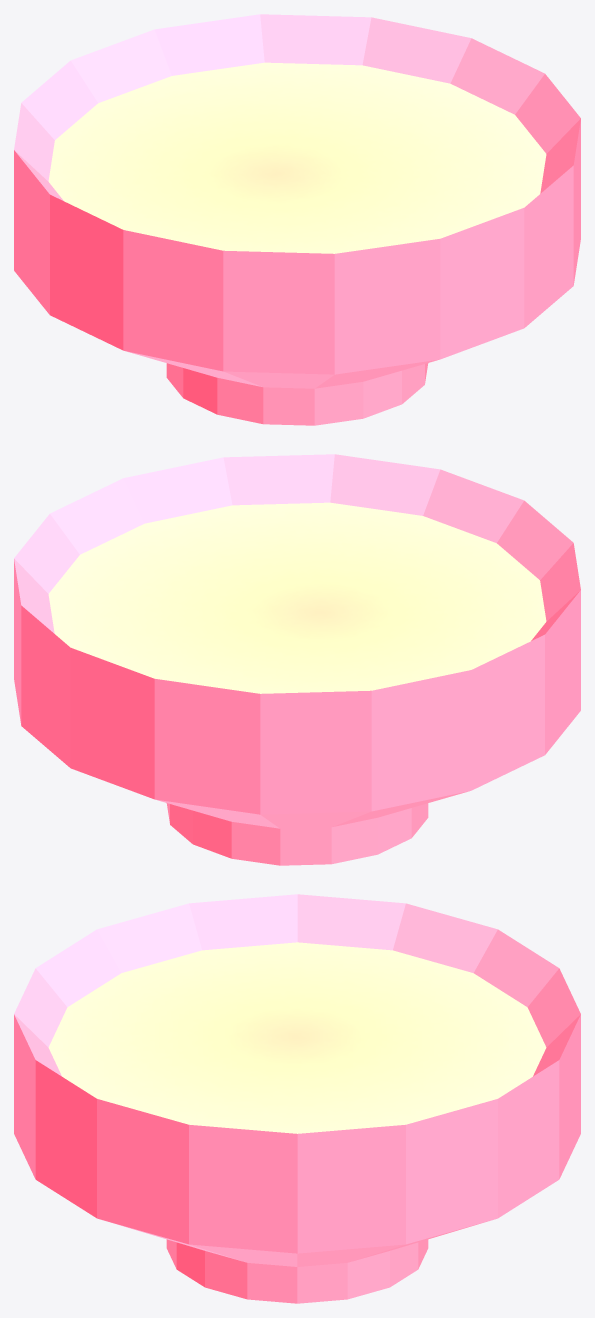
File: bowl.glb
3 views of the same model, one above another, from view 1: azimuth 30°, elevation 25°; view 2: azimuth 150°, elevation 25°; view 3: azimuth 270°, elevation 25° (orthographic).
Parts seen in each view (by area): view 1: Cylinder; view 2: Cylinder; view 3: Cylinder.
Part boxes in pixels (<box>): Cylinder: <box>14,14,580,425</box>; Cylinder: <box>14,454,580,865</box>; Cylinder: <box>14,894,580,1303</box>.
Size of the model in its own units: 4.34 by 1.98 by 4.34.
